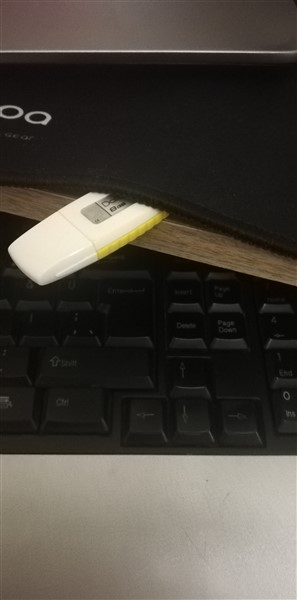flash disk: (4, 171, 179, 286)
klavye: (1, 207, 297, 552)
